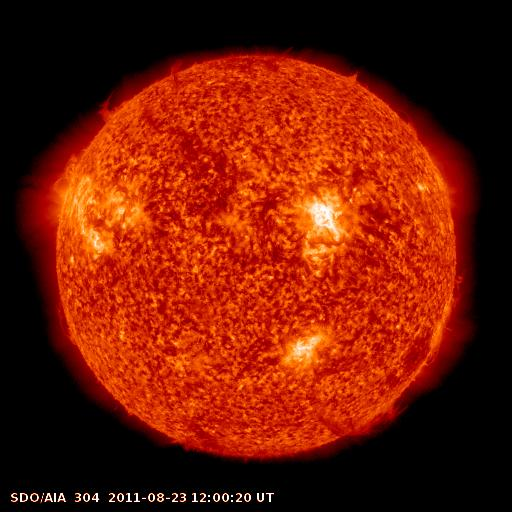prominence: (420, 269, 475, 367), (312, 398, 412, 443), (93, 83, 137, 133), (161, 50, 189, 94)
